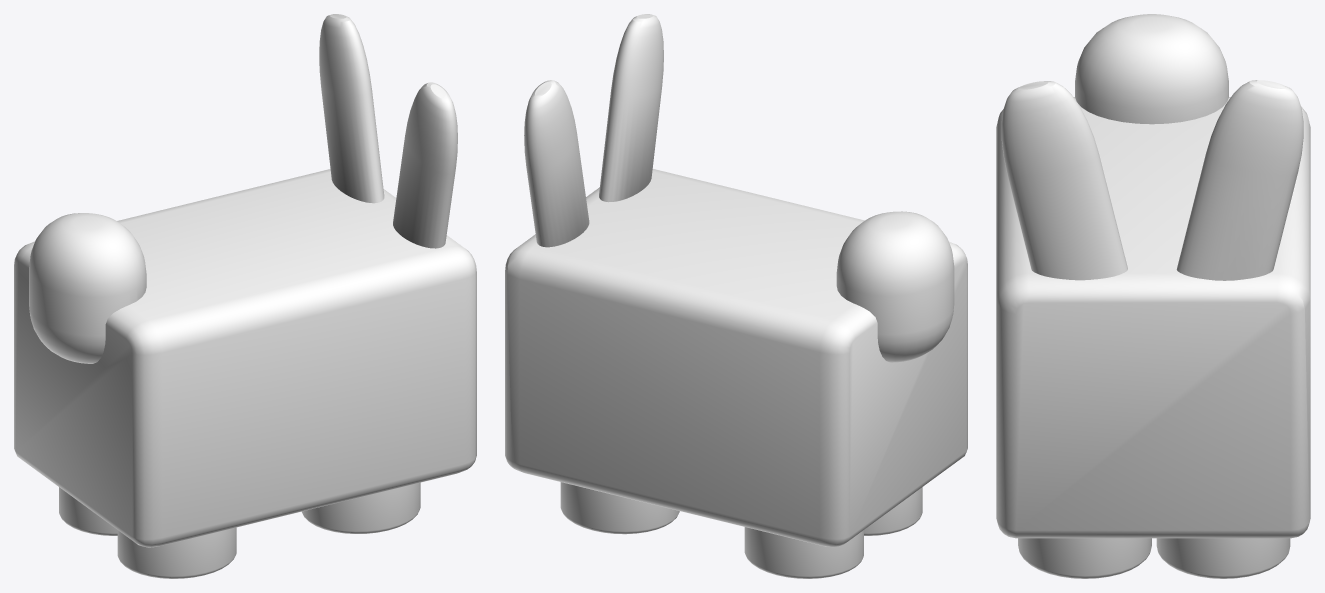
File: bnuuy.glb
The picture shows the model from 3 angles, left to right: view 1: azimuth 30°, elevation 25°; view 2: azimuth 150°, elevation 25°; view 3: azimuth 270°, elevation 25°; orthographic projection. The views are drawn at different scales.
Visible parts, largest first — view 1: BNUUY; view 2: BNUUY; view 3: BNUUY.
Part boxes in pixels (<box>): BNUUY: <box>14,14,476,578</box>; BNUUY: <box>505,14,967,578</box>; BNUUY: <box>996,14,1310,578</box>.
Size of the model in its own units: 2.79 by 3.01 by 1.71.
1 material, 1 textured.
